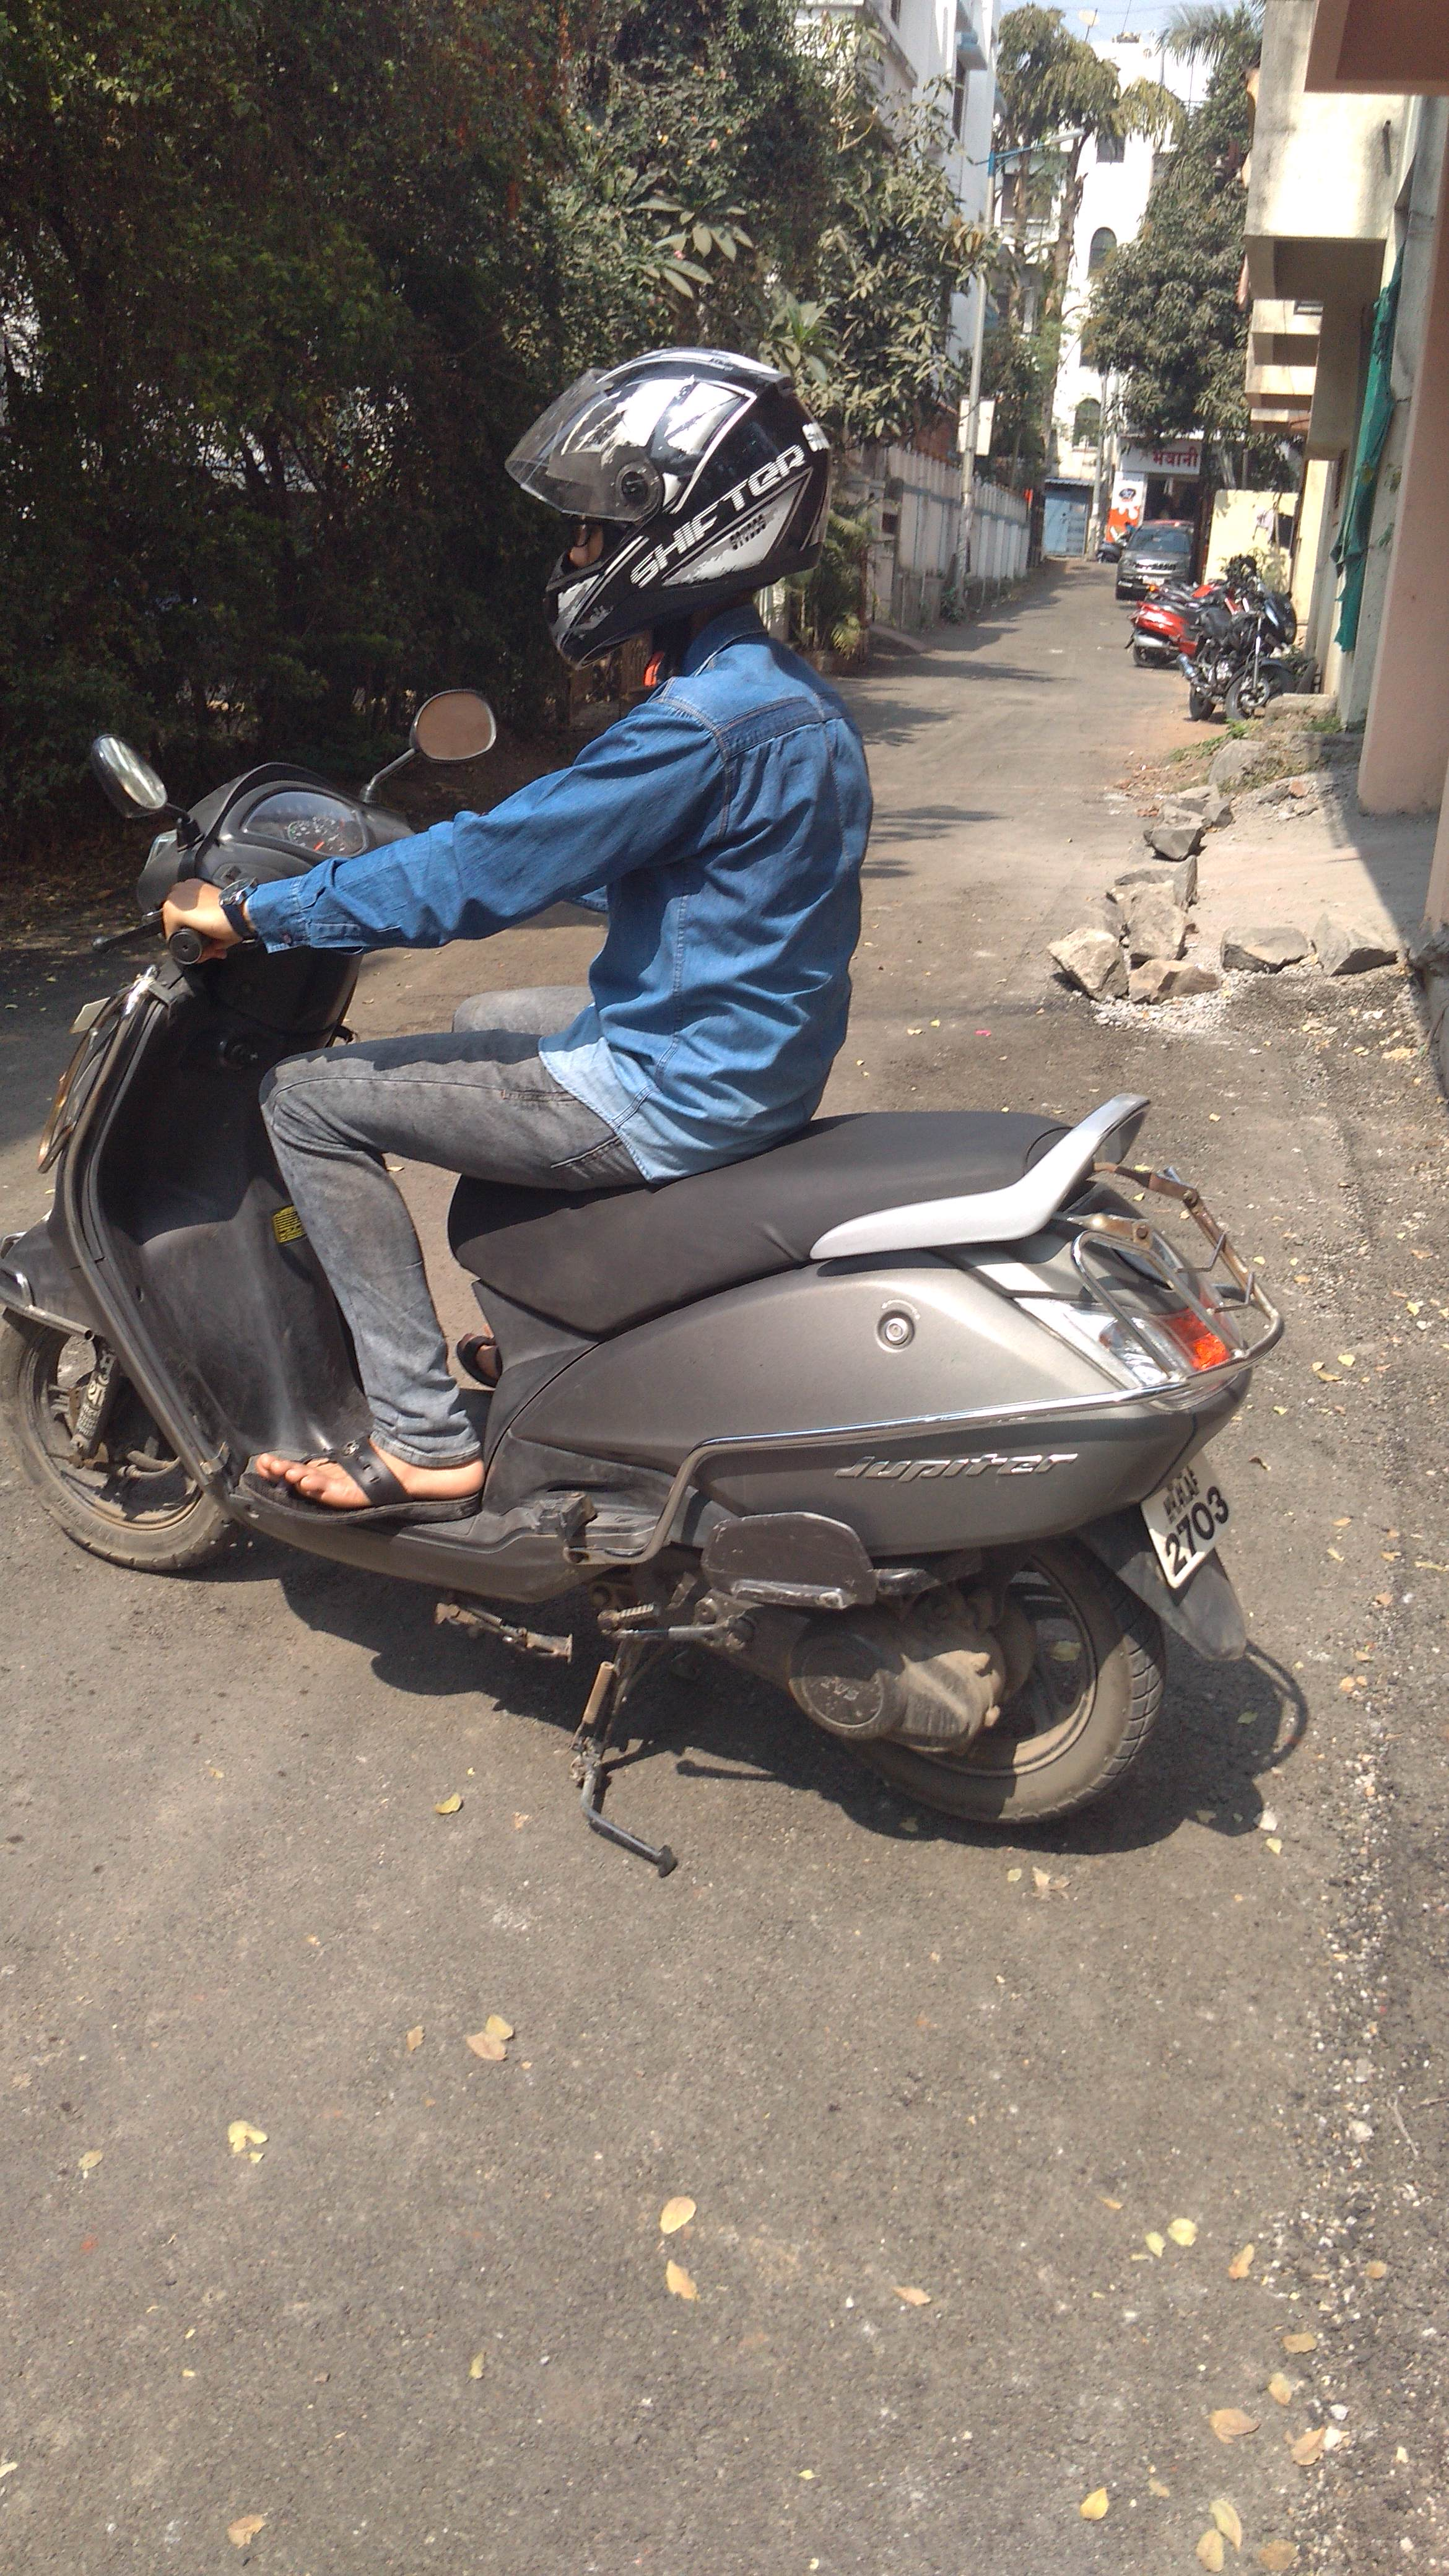helmet: (283, 297, 897, 1238)
